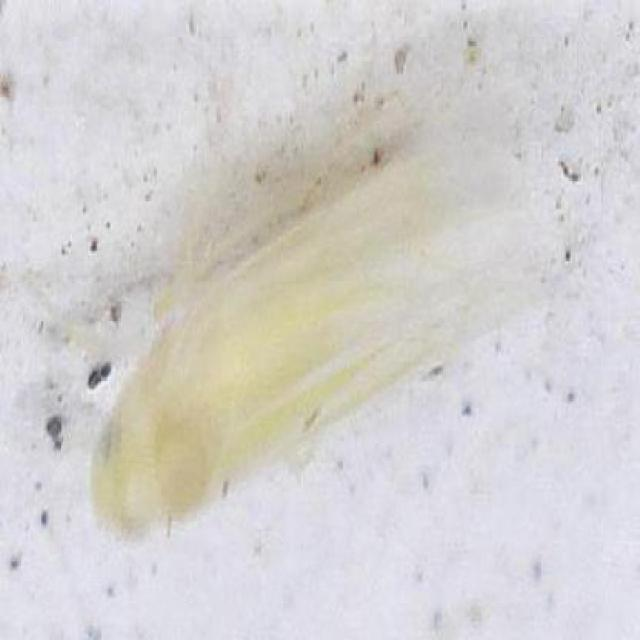green-leafhopper: (89, 87, 562, 544)
